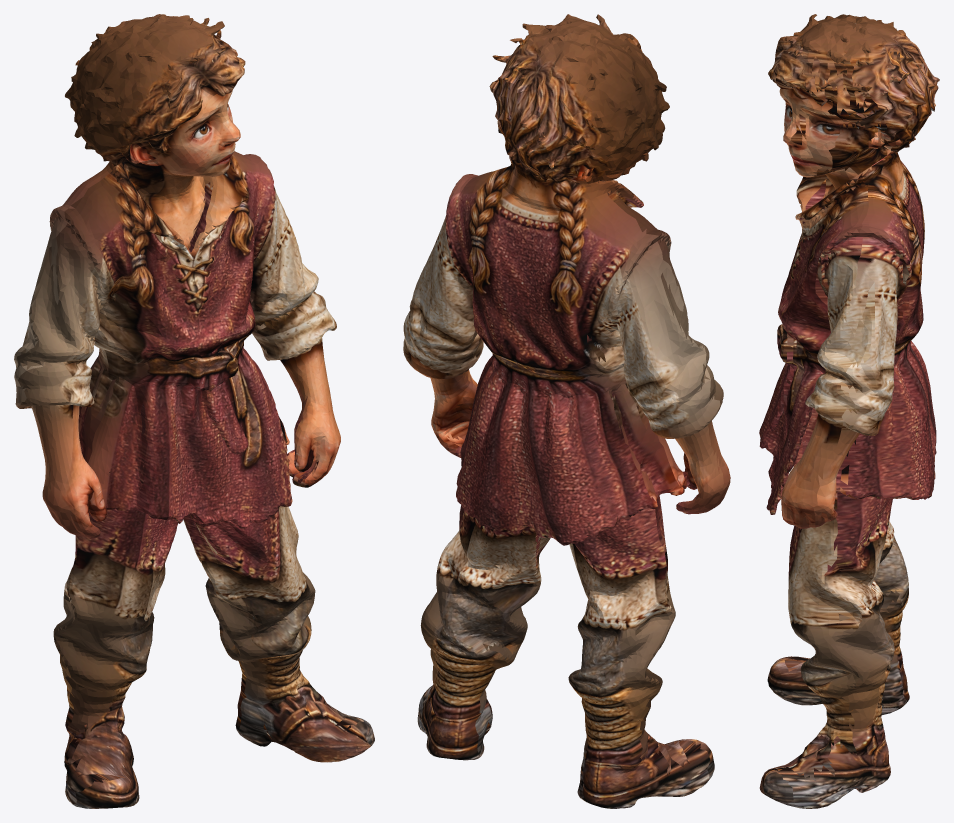
Rendered from menina_cabelos_castanhos.glb.
3 renders of one model, left to right at view 1: azimuth 30°, elevation 25°; view 2: azimuth 150°, elevation 25°; view 3: azimuth 270°, elevation 25°, orthographic. The views are drawn at different scales.
Visible parts, largest first — view 1: tmpc61729ln.ply; view 2: tmpc61729ln.ply; view 3: tmpc61729ln.ply.
Part boxes in pixels (x1=…): tmpc61729ln.ply: x1=14, y1=14, x2=374, y2=808; tmpc61729ln.ply: x1=403, y1=14, x2=730, y2=808; tmpc61729ln.ply: x1=759, y1=14, x2=939, y2=808.
Bounding box in the file's own units: 0.88 × 1.96 × 0.4525.
Materials: 2 (2 with a texture image).
